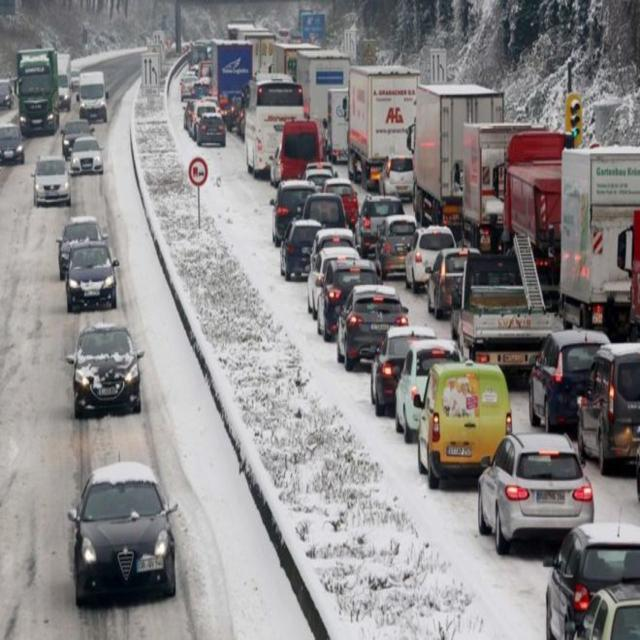bus: (564, 149, 639, 346), (505, 132, 571, 306), (465, 120, 545, 256), (348, 64, 422, 196), (412, 84, 468, 215), (297, 50, 343, 126), (212, 38, 254, 111), (20, 48, 57, 130), (324, 93, 348, 161), (270, 42, 302, 82), (53, 53, 73, 106)
car: (67, 462, 182, 606), (476, 431, 592, 556), (420, 360, 514, 490), (544, 518, 640, 638), (527, 329, 609, 436), (576, 345, 640, 480), (68, 323, 142, 420), (393, 346, 459, 442), (338, 293, 408, 373), (374, 325, 438, 412), (318, 254, 376, 339), (405, 226, 458, 291), (66, 245, 118, 311), (272, 180, 318, 247), (57, 215, 105, 278), (574, 582, 634, 632), (427, 251, 467, 320), (281, 219, 323, 282), (378, 218, 418, 280), (356, 191, 402, 242), (32, 156, 72, 206), (76, 71, 108, 125), (70, 136, 104, 176), (193, 107, 226, 146), (58, 118, 94, 153), (308, 244, 326, 306), (0, 124, 25, 165), (228, 92, 242, 126), (1, 78, 13, 112), (181, 75, 197, 94)
truck: (243, 70, 305, 174), (277, 120, 319, 182)
